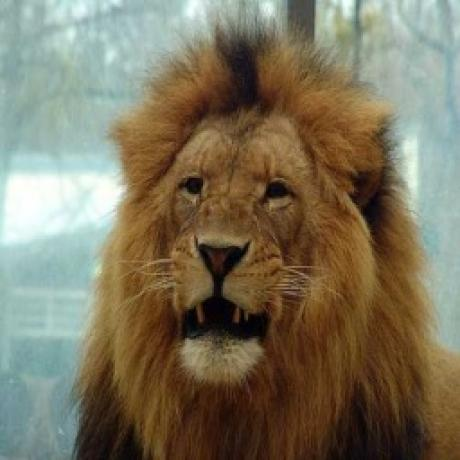Lion: (81, 20, 460, 460)
